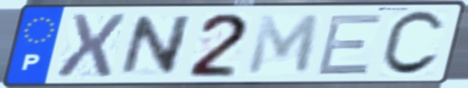2: (186, 11, 253, 79)
C: (377, 8, 448, 79)
E: (313, 11, 386, 77)
M: (244, 13, 322, 78)
N: (115, 13, 196, 78)
X: (52, 12, 129, 82)
